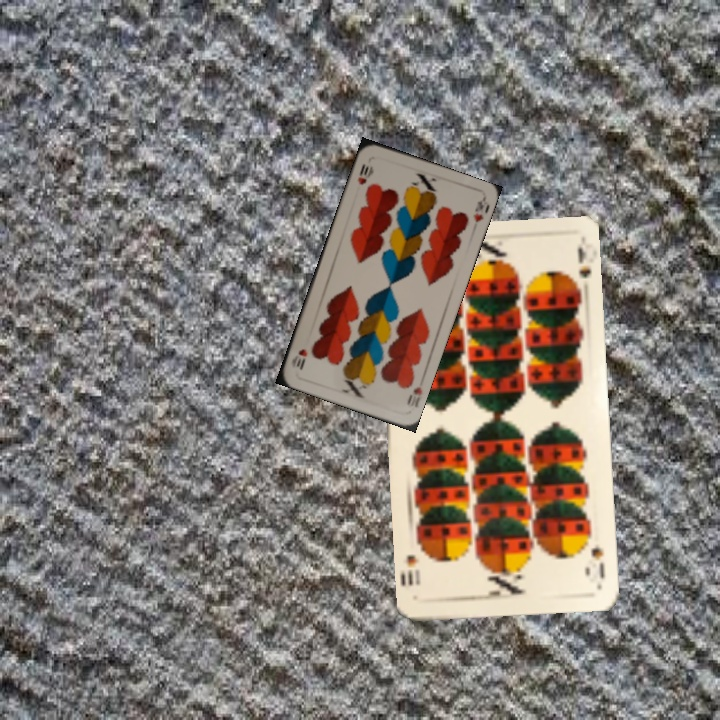H10: (353, 159, 376, 187), (403, 383, 425, 410)
S10: (587, 542, 607, 582)
